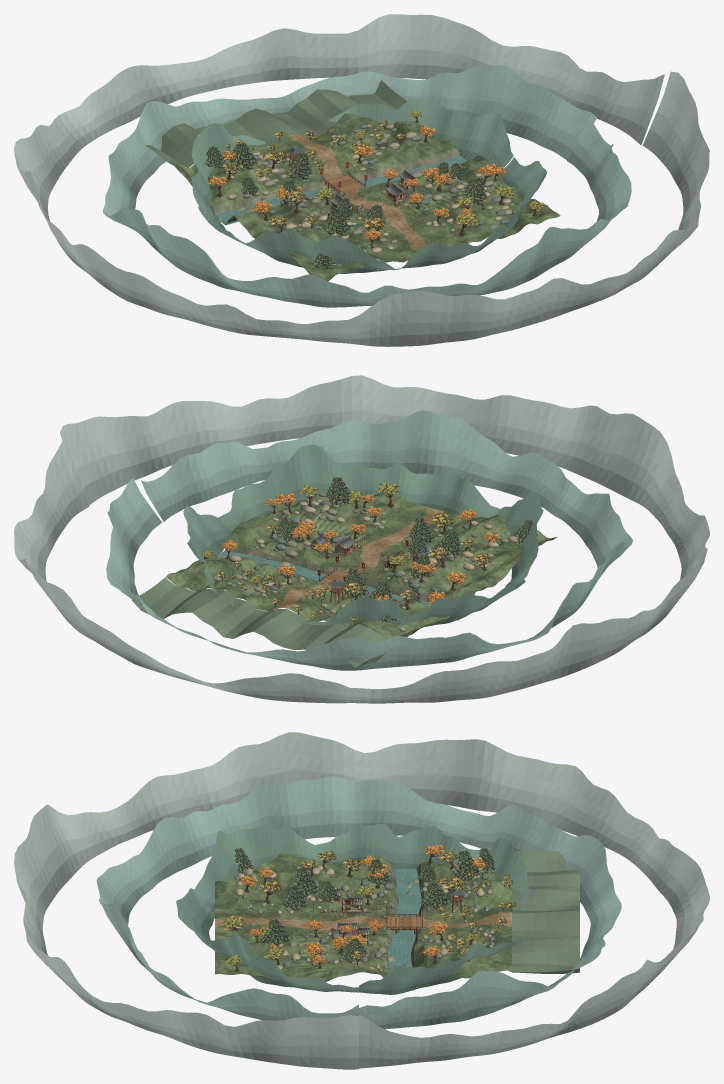
Rendered from ChangbanPass.glb.
3 renders of one model, top to bottom at view 1: azimuth 30°, elevation 25°; view 2: azimuth 150°, elevation 25°; view 3: azimuth 270°, elevation 25°, orthographic.
Parts seen in each view (by area): view 1: Painted distant ridge 108, Painted distant ridge 80, Painted distant ridge 53, Northern bank beyond the trail, Terrain 2 0, Terrain 2 3, Terrain 0 1, Terrain 2 2, Terrain 3 1, Terrain 1 3, Terrain 3 3, Terrain 2 1 (+22 smaller); view 2: Painted distant ridge 108, Painted distant ridge 80, Painted distant ridge 53, Northern bank beyond the trail, Terrain 2 3, Terrain 0 2, Terrain 3 0, Terrain 3 1, Terrain 2 0, Terrain 2 1, Terrain 2 2, Terrain 3 2 (+21 smaller); view 3: Painted distant ridge 108, Painted distant ridge 80, Painted distant ridge 53, Northern bank beyond the trail, Terrain 1 3, Han tributary, Terrain 1 0, Terrain 3 2, Terrain 1 2, Terrain 2 0, Terrain 0 2, Painted canopy 06 (+19 smaller).
Part boxes in pixels (box(x1,y1,x2,y2)): Painted distant ridge 108: box(14, 14, 709, 346); Painted distant ridge 80: box(103, 65, 631, 307); Painted distant ridge 53: box(190, 99, 546, 273); Northern bank beyond the trail: box(145, 80, 407, 167); Terrain 2 0: box(290, 117, 387, 171); Terrain 2 3: box(402, 204, 498, 246); Terrain 0 1: box(208, 183, 294, 225); Terrain 2 2: box(364, 184, 459, 226); Terrain 3 1: box(388, 140, 485, 183); Terrain 1 3: box(345, 226, 426, 262); Terrain 3 3: box(464, 196, 560, 238); Terrain 2 1: box(327, 153, 424, 198); Painted distant ridge 108: box(14, 375, 709, 703); Painted distant ridge 80: box(106, 410, 632, 670); Painted distant ridge 53: box(183, 445, 543, 632); Northern bank beyond the trail: box(131, 577, 408, 668); Terrain 2 3: box(338, 492, 435, 536); Terrain 0 2: box(432, 549, 520, 589); Terrain 3 0: box(165, 558, 262, 591); Terrain 3 1: box(206, 523, 300, 571); Terrain 2 0: box(226, 572, 317, 610); Terrain 2 1: box(263, 548, 361, 589); Terrain 2 2: box(301, 515, 398, 563); Terrain 3 2: box(240, 506, 337, 547); Painted distant ridge 108: box(14, 732, 709, 1069); Painted distant ridge 80: box(96, 776, 621, 1029); Painted distant ridge 53: box(176, 824, 529, 994); Northern bank beyond the trail: box(512, 850, 579, 973); Terrain 1 3: box(215, 882, 289, 922); Han tributary: box(388, 869, 421, 987); Terrain 1 0: box(438, 877, 511, 922); Terrain 3 2: box(289, 946, 363, 981); Terrain 1 2: box(289, 887, 363, 922); Terrain 2 0: box(438, 913, 511, 950); Terrain 0 2: box(289, 854, 363, 892); Painted canopy 06: box(222, 876, 467, 934).
Size of the model in its own units: 229 by 25.1 by 227.
Materials: 8 (5 with a texture image).
